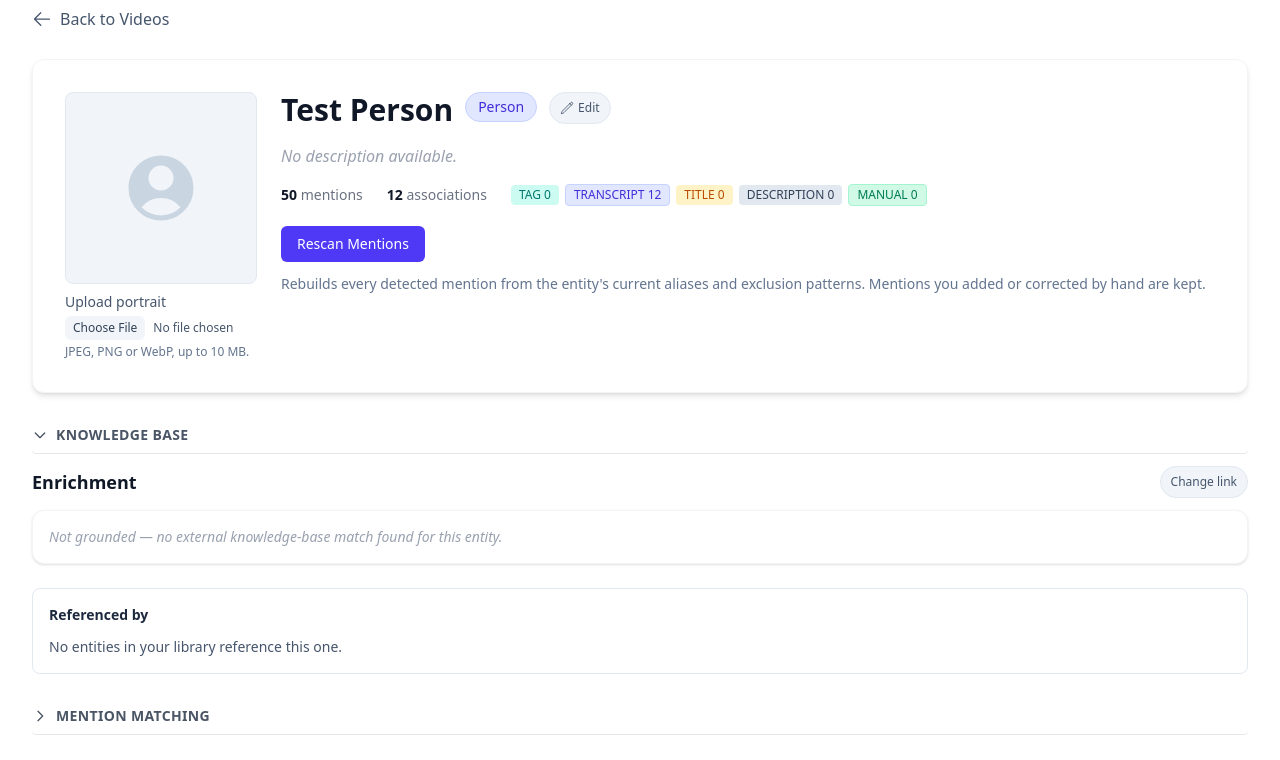
EntityDetailPage — alias delete (#289) › renders a Delete control for the alias
The width and height of the screenshot is (1280, 760).
What coordinates should you click on to do the following:
click the button "Mention matching"
I would click on:
 (133, 716)
Its box is left=32, top=698, right=1248, bottom=735.
(page scrolled)
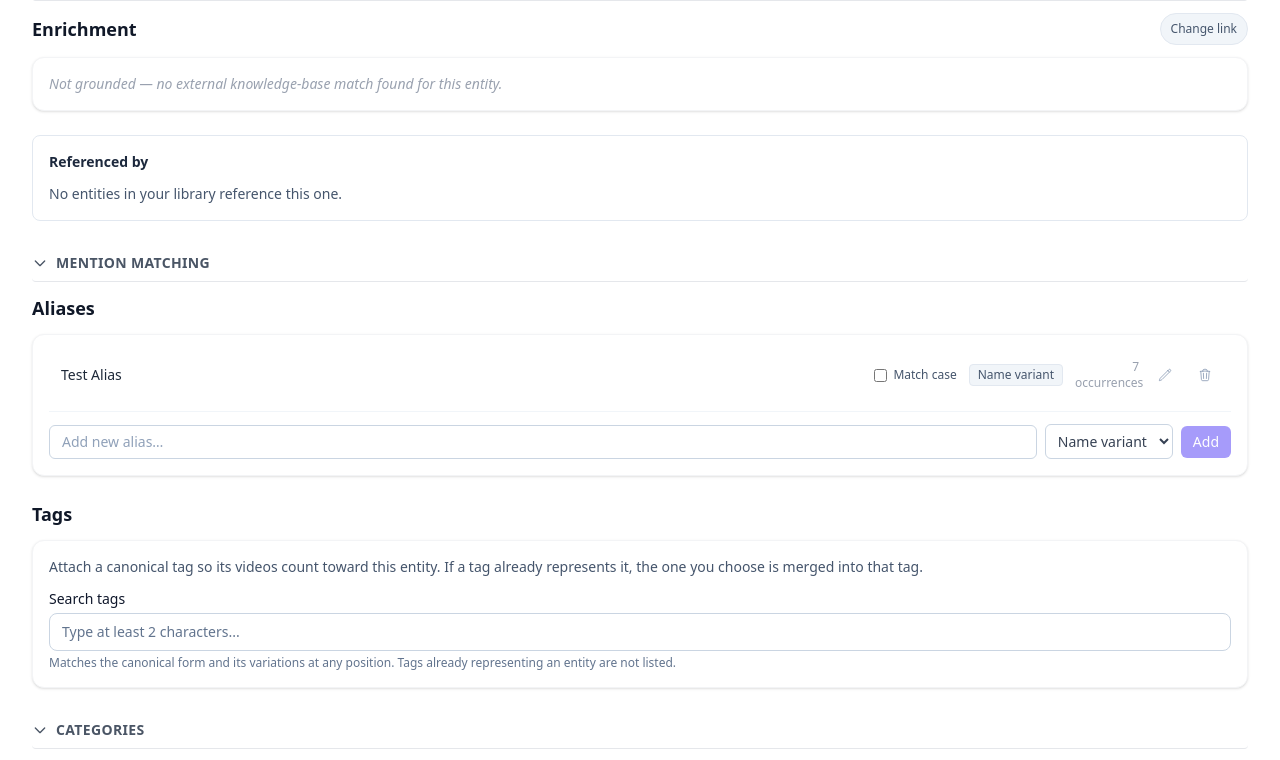
Expected: the button named "delete alias \"test alias\"" is shown, left=1191, top=361, right=1219, bottom=389
